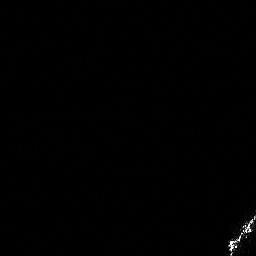ship: (224, 212, 256, 256)
